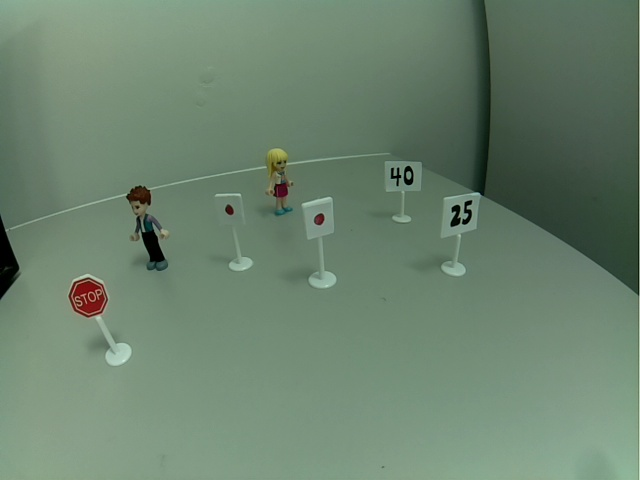people: (126, 185, 171, 274), (261, 144, 298, 217)
red light: (301, 197, 336, 240), (214, 191, 245, 228)
speed 25: (439, 192, 479, 240)
speed 40: (383, 158, 423, 194)
stop: (66, 272, 112, 322)
